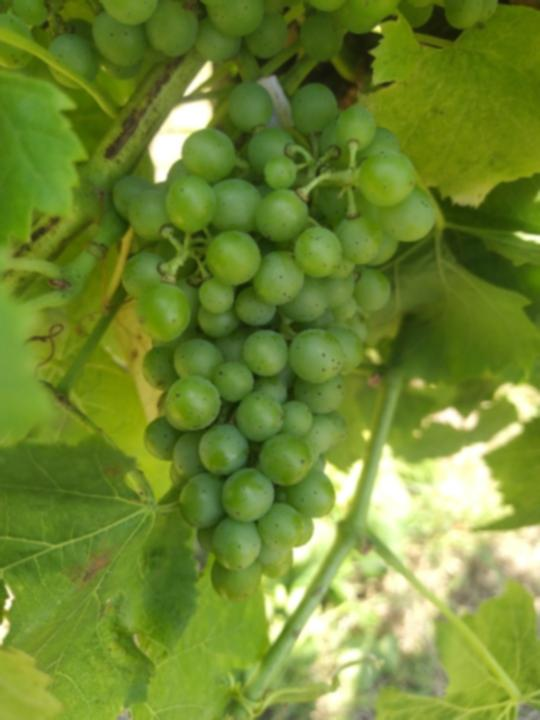grape: (111, 77, 441, 601)
